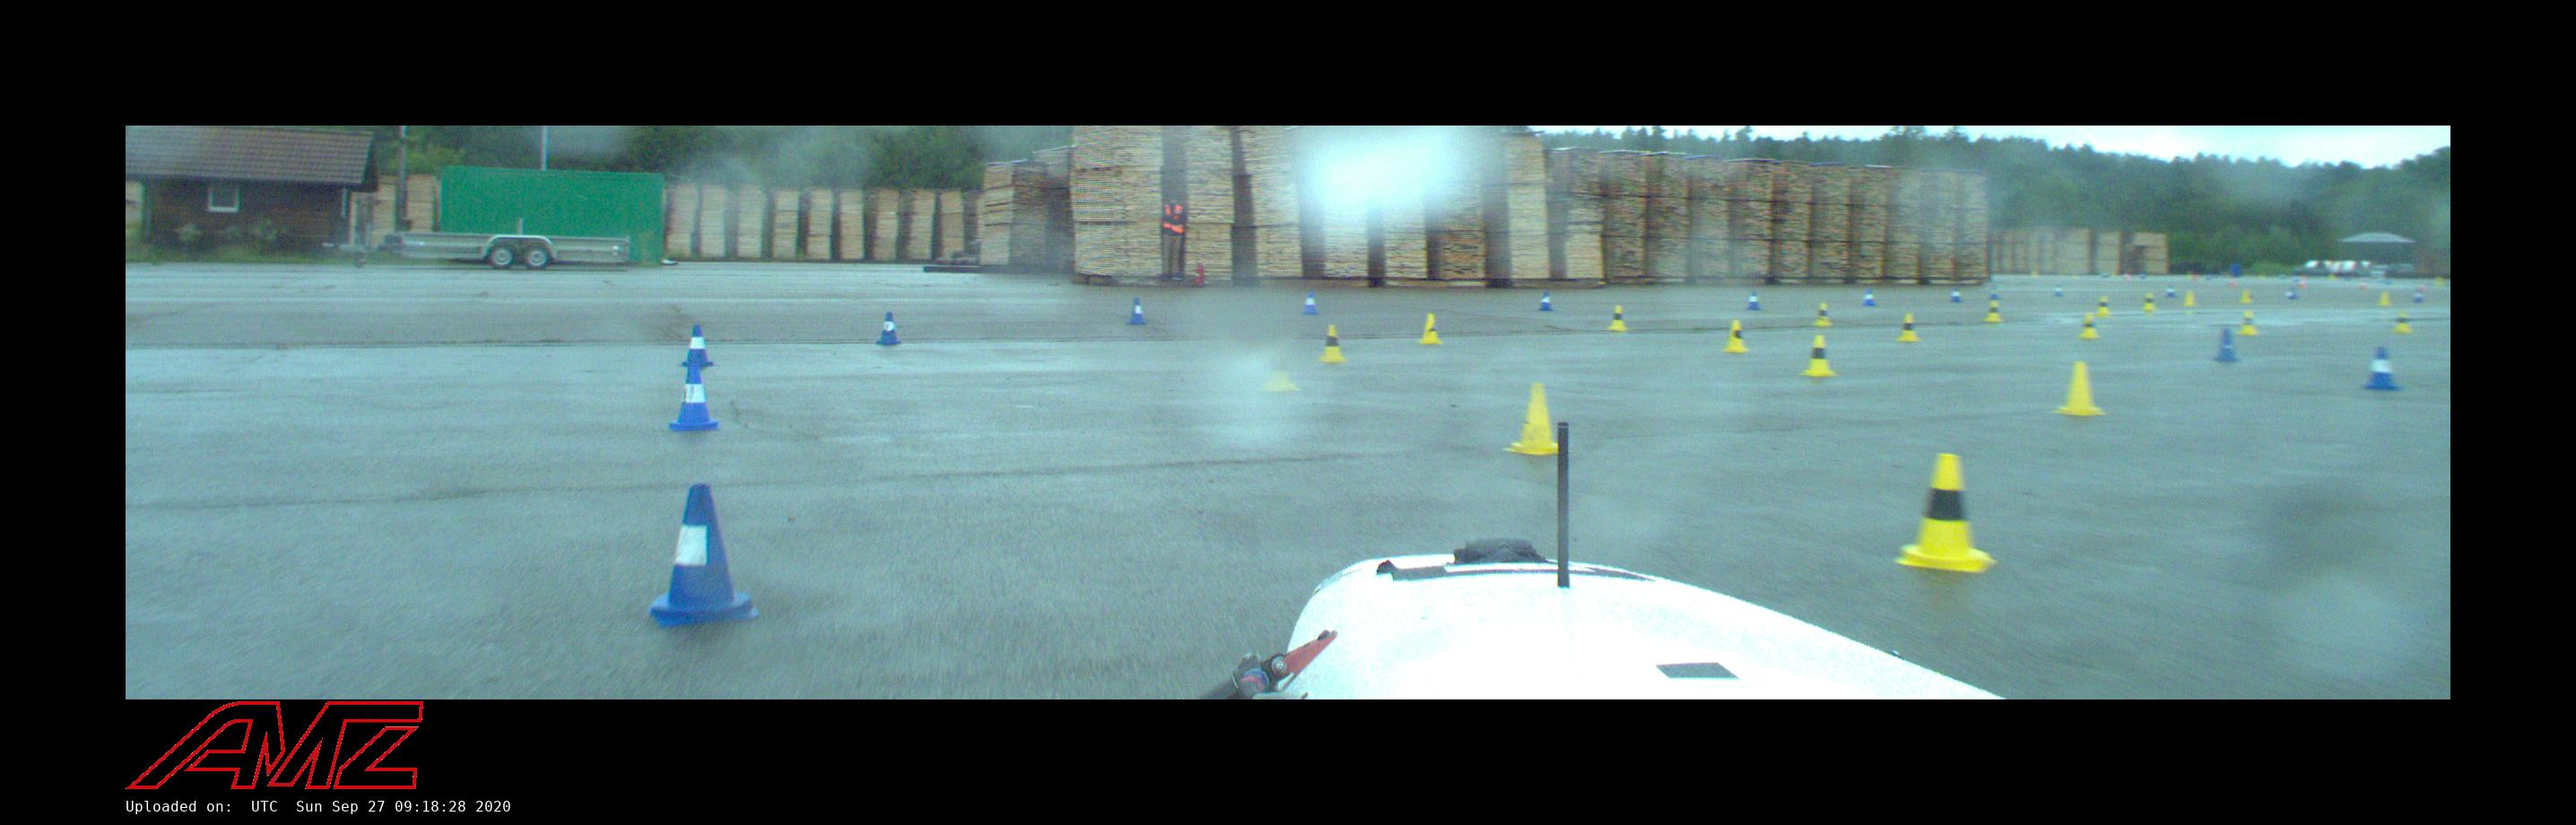blue_cone: (647, 485, 757, 625), (667, 366, 720, 431), (2364, 348, 2397, 389), (682, 325, 711, 368), (876, 312, 900, 345), (2215, 327, 2238, 362), (1129, 297, 1147, 325), (1303, 289, 1319, 316), (1538, 291, 1554, 311), (1985, 283, 1999, 302), (1861, 289, 1876, 306), (1746, 289, 1758, 309), (1950, 288, 1962, 302), (2287, 286, 2297, 299), (2413, 288, 2422, 302), (2101, 266, 2111, 278), (2054, 283, 2062, 294), (2167, 283, 2173, 296), (2139, 268, 2146, 278)
orange_cone: (2226, 273, 2238, 288), (2297, 274, 2307, 288), (2417, 279, 2427, 293), (2359, 278, 2369, 289), (2121, 271, 2131, 281), (2190, 271, 2198, 281)
yellow_cone: (1894, 455, 1996, 572), (1502, 381, 1557, 455), (2054, 362, 2105, 414), (1257, 345, 1301, 393), (1801, 335, 1835, 375), (1319, 325, 1344, 362), (1722, 319, 1748, 352), (1894, 312, 1919, 342), (1418, 316, 1439, 343), (2077, 314, 2098, 337), (1607, 306, 1626, 330), (1814, 302, 1833, 327), (2238, 309, 2257, 334), (2394, 311, 2410, 332), (1985, 301, 2001, 320), (2096, 296, 2109, 314), (2142, 293, 2155, 311), (2183, 291, 2195, 306), (2326, 268, 2338, 279), (2379, 293, 2389, 306), (2242, 289, 2252, 302), (2435, 273, 2445, 286), (2257, 268, 2267, 279), (2031, 266, 2039, 278)
